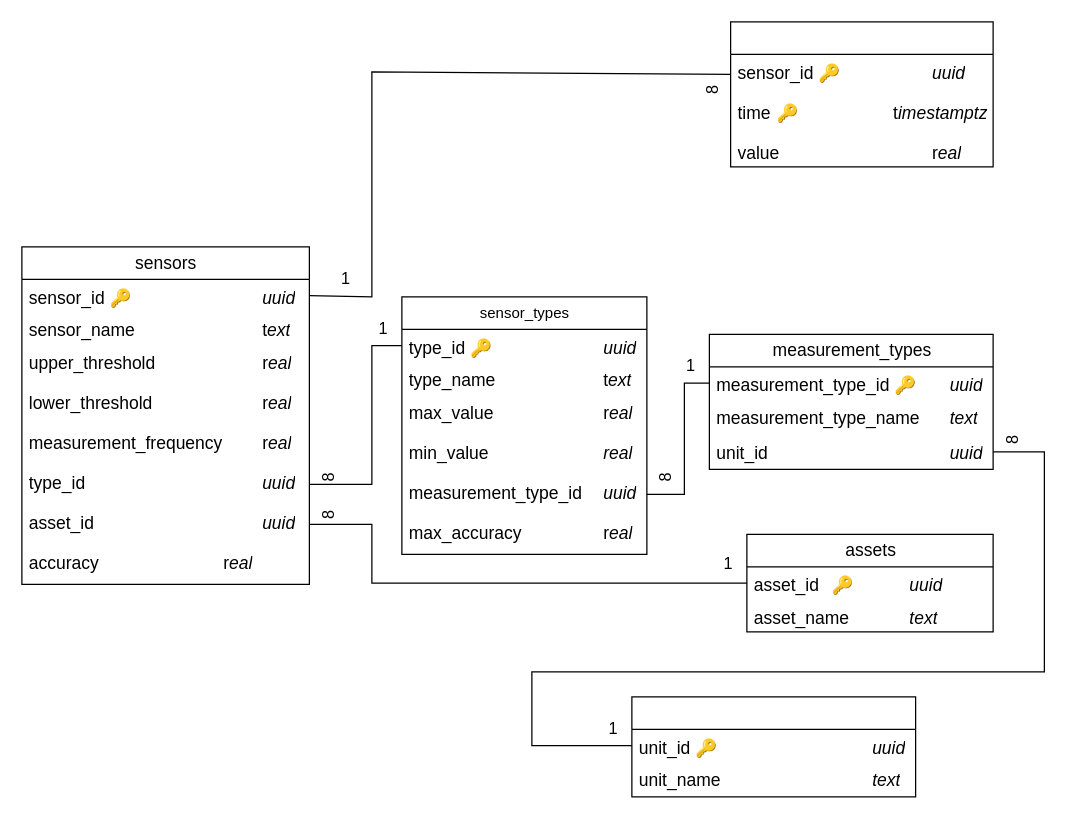
Image size: 1068x823. Some labels were removed from this diagram. Each missing label, with the box of its shape:
measurements: (729, 21, 993, 167)
units: (631, 696, 916, 797)
